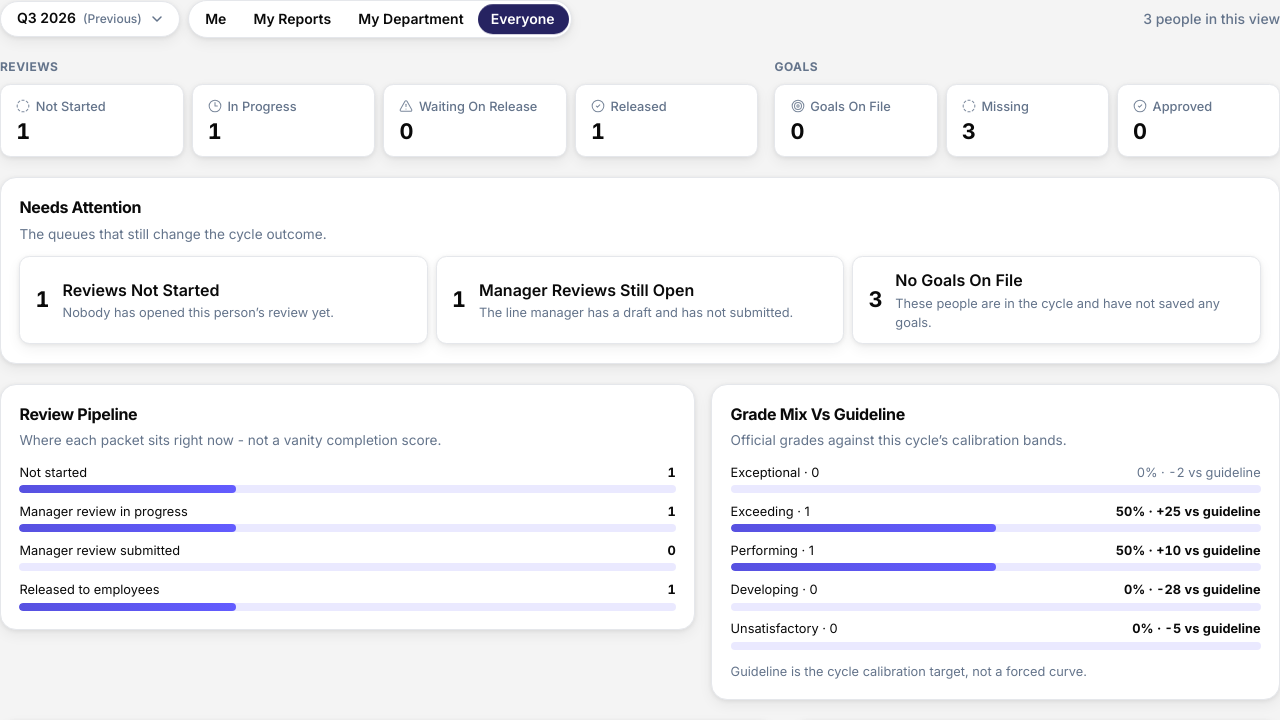
Test: AnalyticsPage › puts the cycle picker first and clears the dashboard from Clear
The width and height of the screenshot is (1280, 720).
Expected: the heading "Needs Attention" is shown, [19,197,141,217]
Click the button with aria-label "Cycle:": coordinates (90, 19) [0,1,180,37]
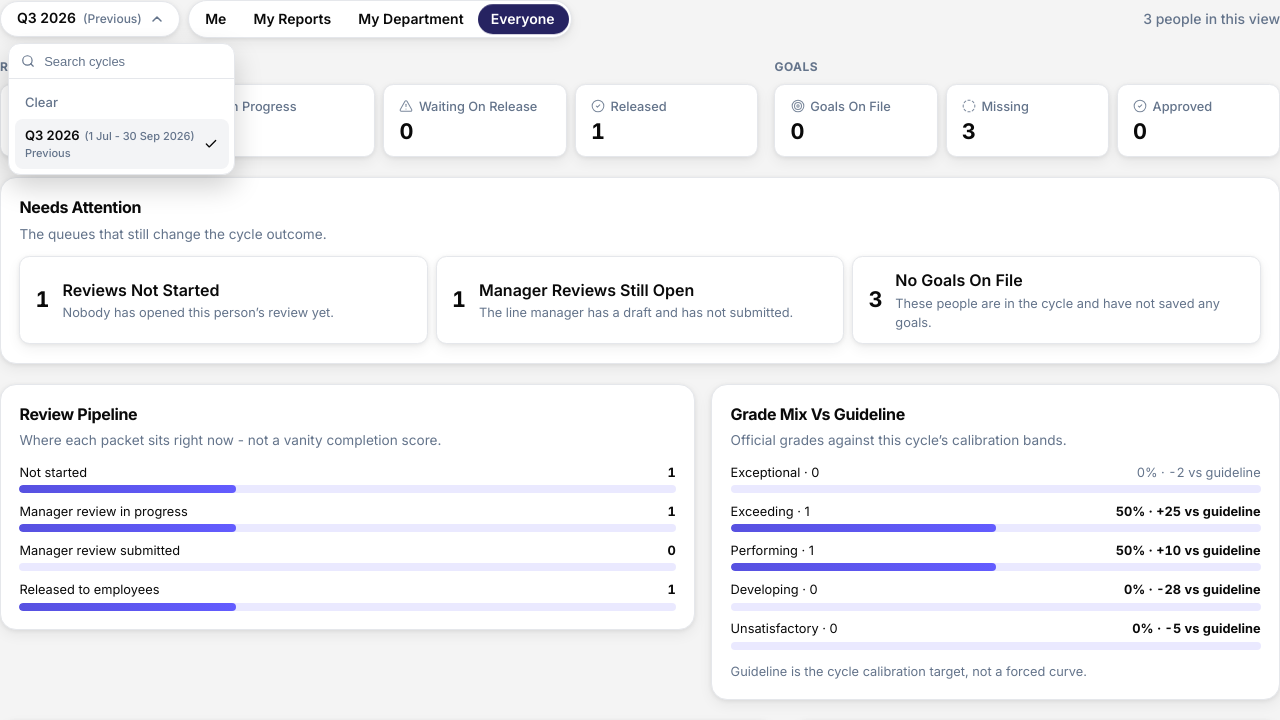
Click the option "Clear": coordinates (122, 102) [15,85,229,119]
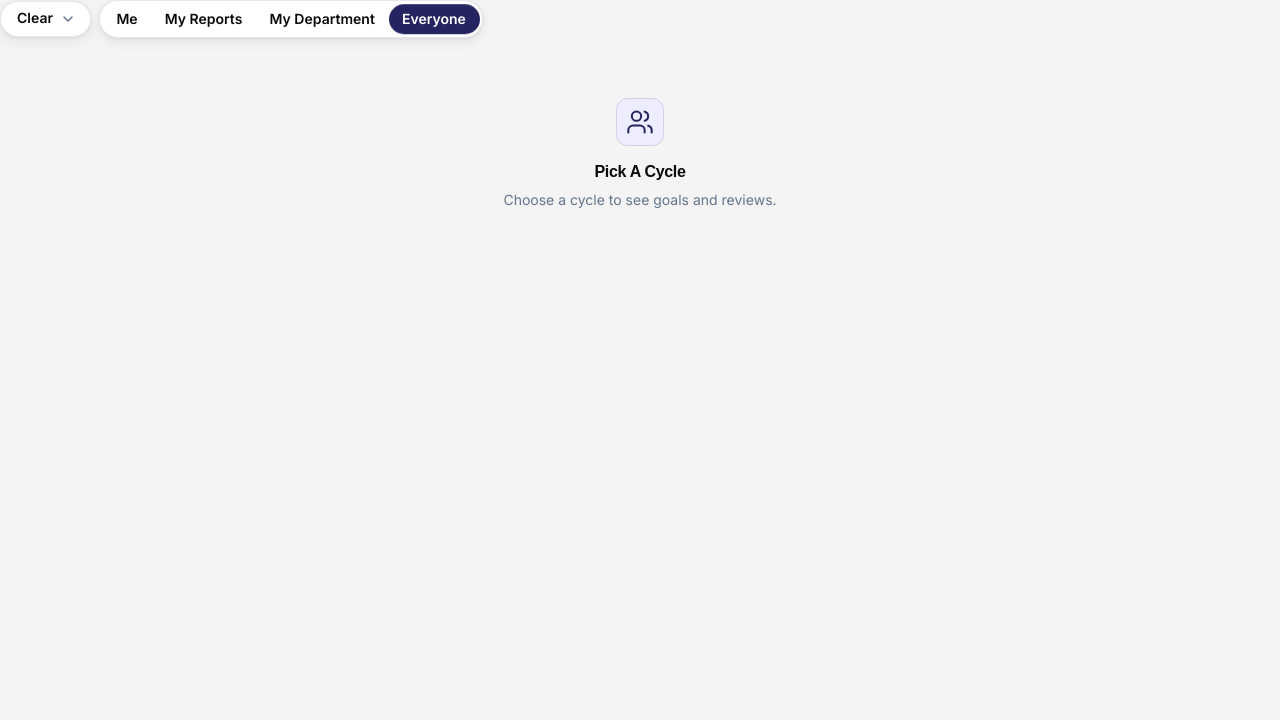
Expected: the heading "Pick A Cycle" is shown, [594,160,686,184]
Expected: the heading "Needs Attention" is gone
